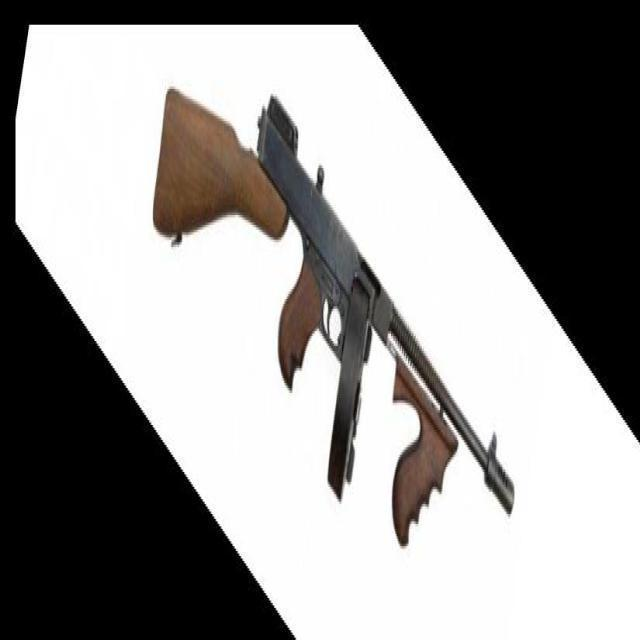Rifle: (153, 89, 516, 549)
